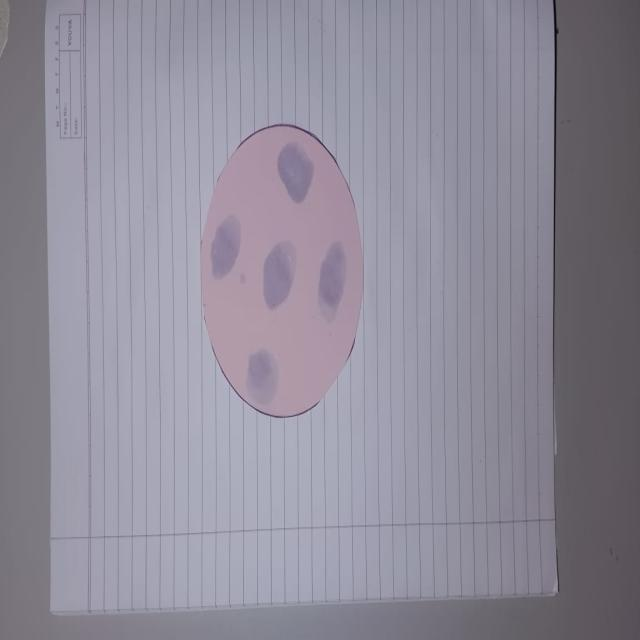BlueColor: (263, 241, 296, 309), (318, 241, 346, 320), (277, 142, 313, 202), (211, 215, 241, 279), (247, 349, 278, 406), (239, 273, 246, 283)
